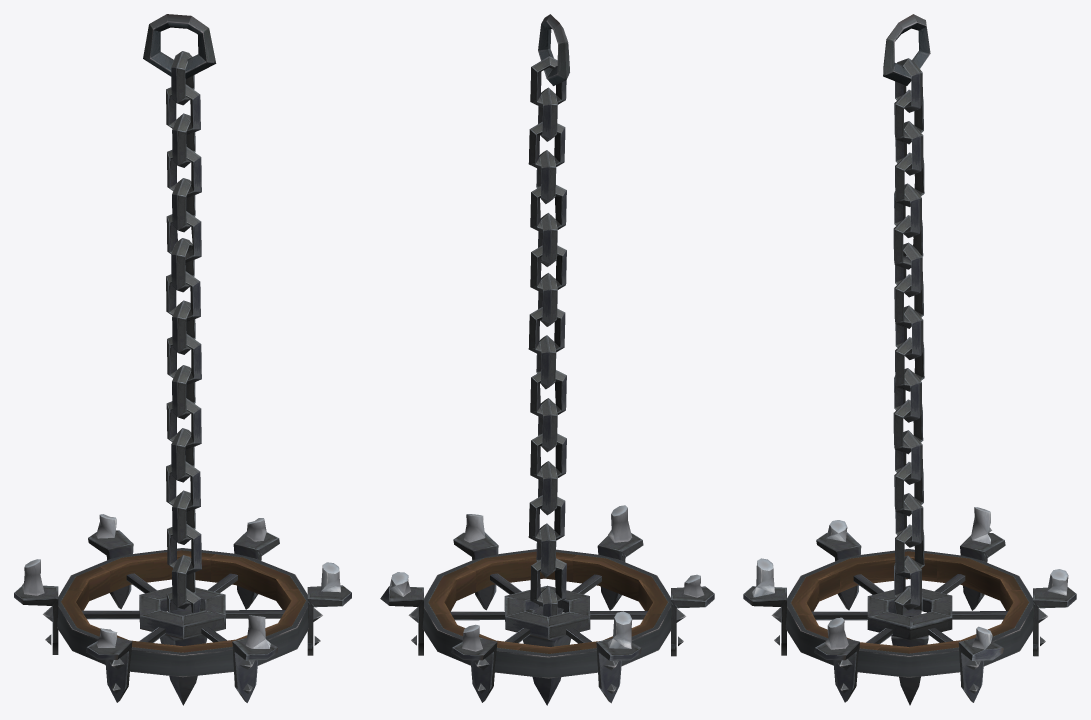
The model's file is A_CA_GEN_Chandelier_01.fbx.
The picture shows the model from 3 angles, left to right: view 1: azimuth 30°, elevation 25°; view 2: azimuth 150°, elevation 25°; view 3: azimuth 270°, elevation 25°; orthographic projection.
Parts seen in each view (by area): view 1: A_CA_GEN_Chandelier_05; view 2: A_CA_GEN_Chandelier_05; view 3: A_CA_GEN_Chandelier_05.
Part boxes in pixels (bbox=[...]): A_CA_GEN_Chandelier_05: bbox=[14, 14, 351, 705]; A_CA_GEN_Chandelier_05: bbox=[380, 14, 714, 705]; A_CA_GEN_Chandelier_05: bbox=[743, 14, 1076, 705].
Size of the model in its own units: 603 by 1558 by 687.
Materials: 1 (1 with a texture image).
